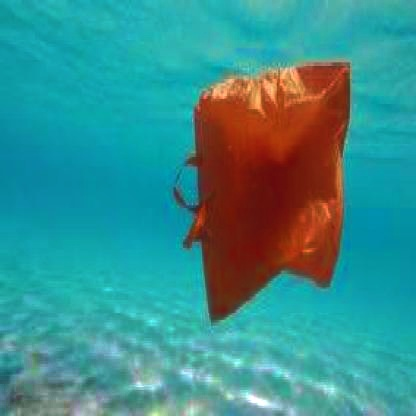pbag: (171, 60, 353, 328)
